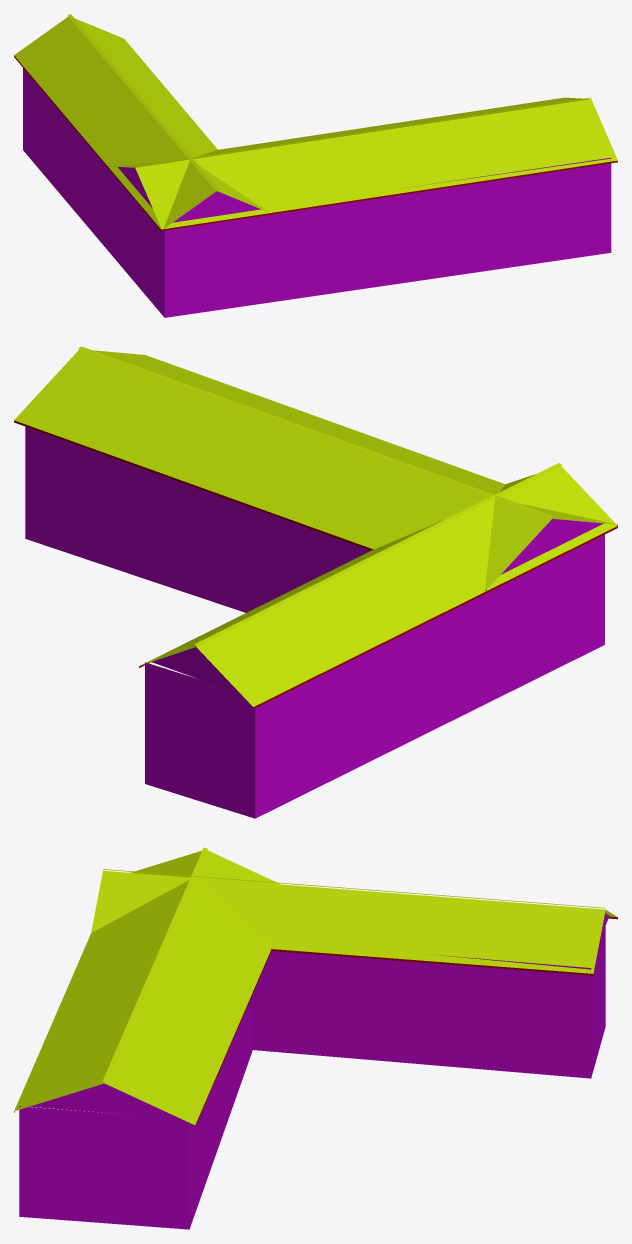
Rendered from sdt_78.glb.
The picture shows the model from 3 angles, top to bottom: view 1: azimuth 30°, elevation 25°; view 2: azimuth 150°, elevation 25°; view 3: azimuth 270°, elevation 25°; orthographic projection. The views are drawn at different scales.
Parts seen in each view (by area): view 1: sdt_78; view 2: sdt_78; view 3: sdt_78.
Boxes of the visible parts, x1,y1,x2,y2 form: sdt_78: [14, 14, 617, 317]; sdt_78: [14, 346, 617, 818]; sdt_78: [14, 847, 617, 1229].
Bounding box in the file's own units: 32.96 × 8.97 × 33.93.
